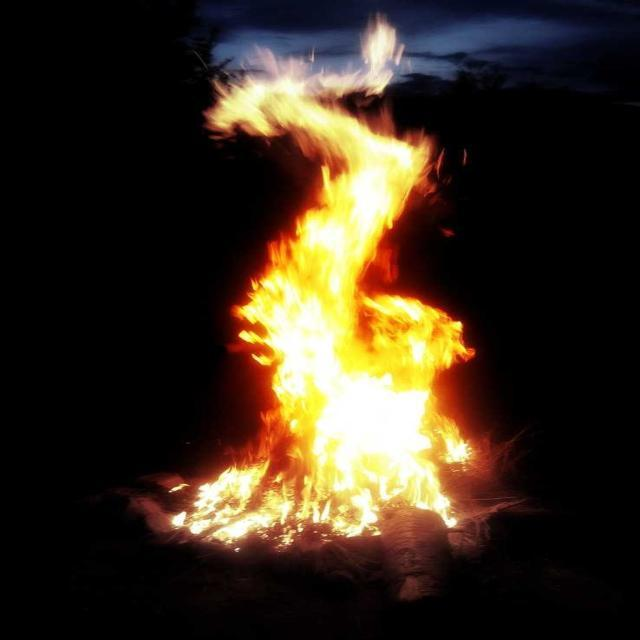Fire: (327, 384, 423, 500), (306, 198, 370, 282)
